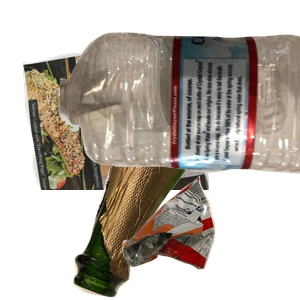glass: (71, 152, 260, 300)
paper: (20, 34, 221, 214)
plastic: (60, 30, 300, 196)
trash: (120, 174, 300, 300)
